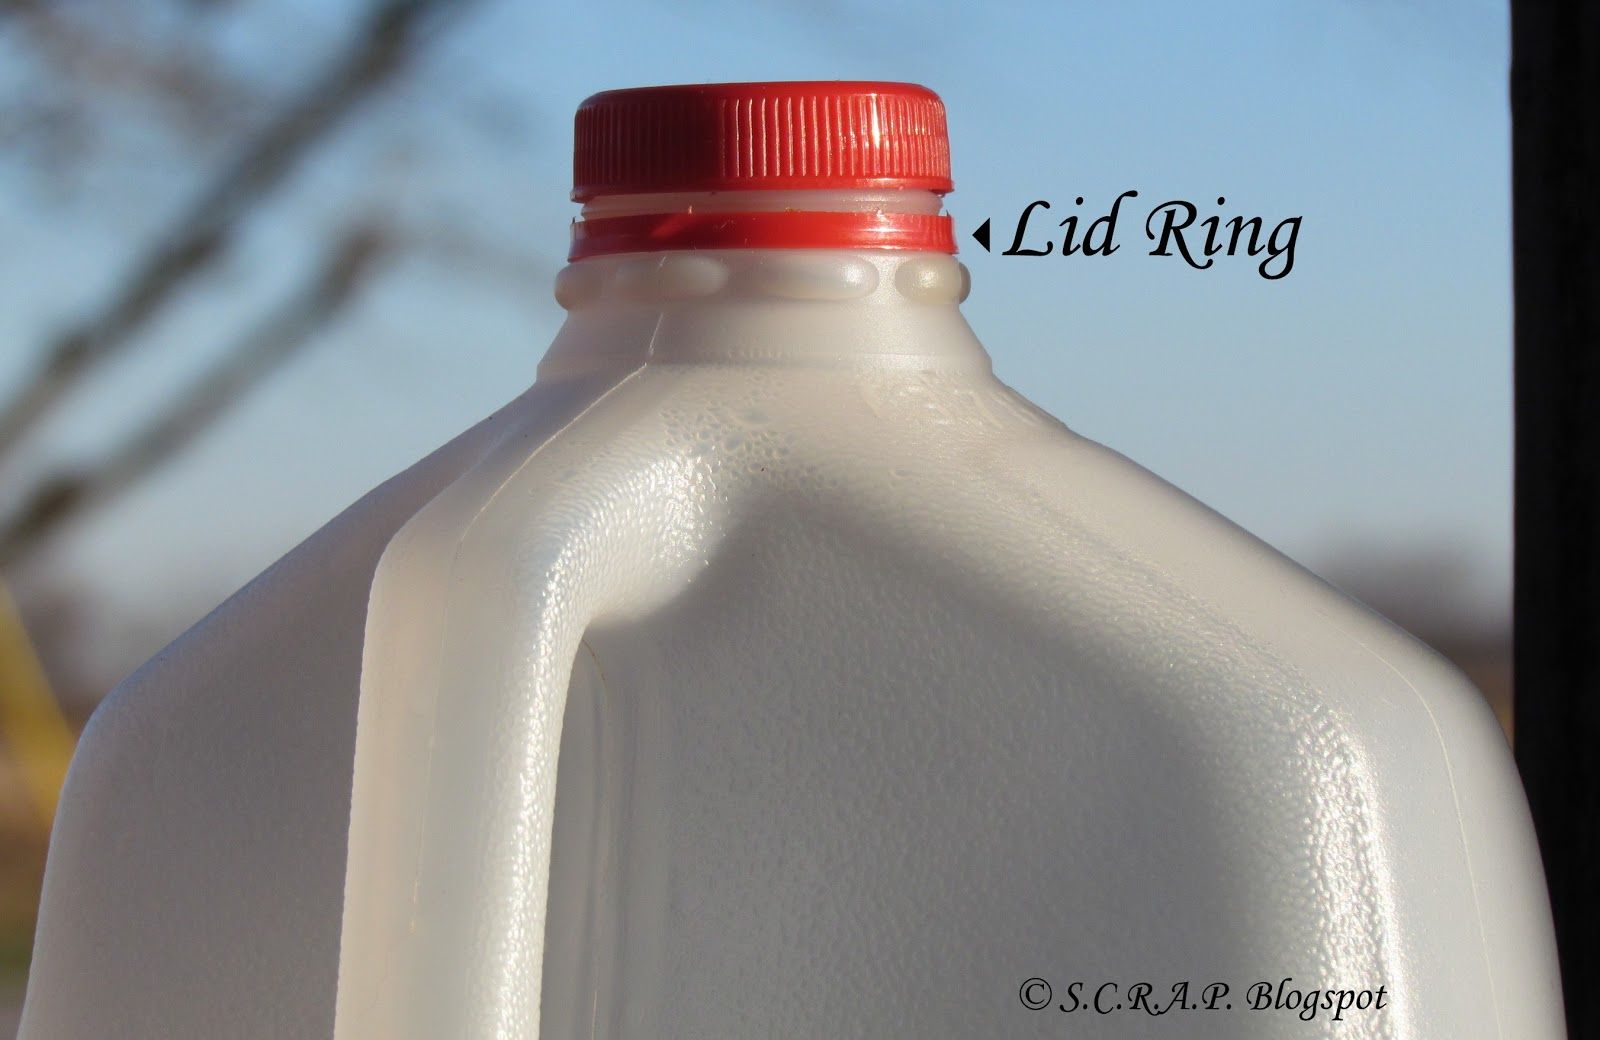Rec_Plastic: (28, 61, 1573, 1026)
